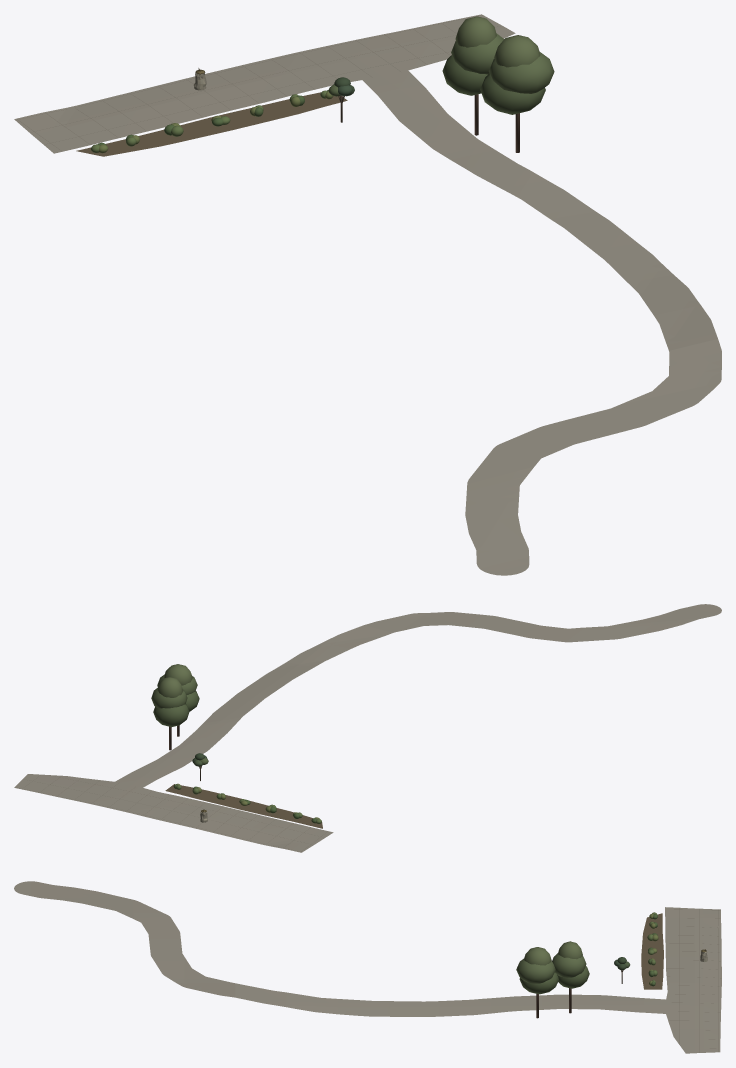
Rendered from site.glb.
The picture shows the model from 3 angles, top to bottom: view 1: azimuth 30°, elevation 25°; view 2: azimuth 150°, elevation 25°; view 3: azimuth 270°, elevation 25°; orthographic projection. The views are drawn at different scales.
Visible parts, largest first — view 1: science-green-paving, science-green-registered-trees, science-green-north-bed, science-walk-paving-joints; view 2: science-green-paving, science-green-registered-trees, science-green-north-bed, science-walk-paving-joints; view 3: science-green-paving, science-green-registered-trees, science-green-north-bed, science-walk-paving-joints.
Boxes of the visible parts, box(x1,y1,x2,y2) form: science-green-paving: box(14, 14, 721, 575); science-green-registered-trees: box(328, 16, 554, 152); science-green-north-bed: box(76, 90, 347, 156); science-walk-paving-joints: box(16, 15, 500, 151); science-green-paving: box(14, 604, 721, 852); science-green-registered-trees: box(151, 664, 208, 780); science-green-north-bed: box(165, 783, 322, 828); science-walk-paving-joints: box(17, 775, 326, 851); science-green-paving: box(14, 881, 721, 1053); science-green-registered-trees: box(516, 941, 630, 1018); science-green-north-bed: box(641, 912, 663, 989); science-walk-paving-joints: box(666, 908, 721, 1052).
Size of the model in its own units: 39.34 by 7.74 by 69.02.
